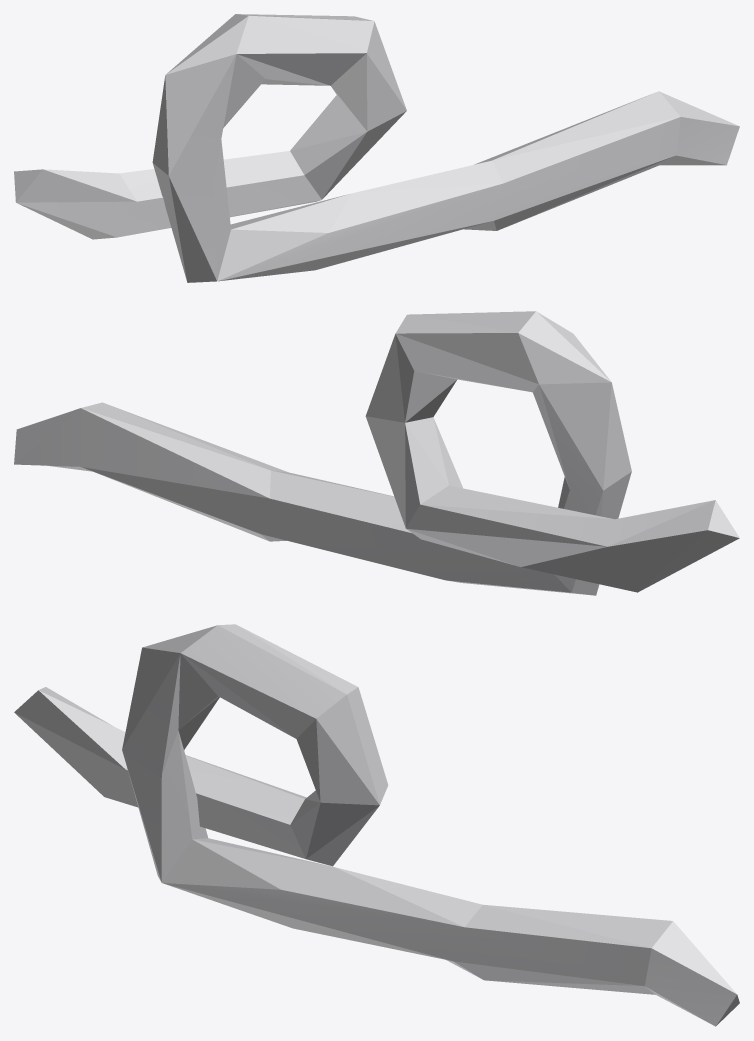
The model's file is stylize_cloud_16.fbx.
3 renders of one model, top to bottom at view 1: azimuth 30°, elevation 25°; view 2: azimuth 150°, elevation 25°; view 3: azimuth 330°, elevation 25°, orthographic. The views are drawn at different scales.
Parts seen in each view (by area): view 1: cloud_97; view 2: cloud_97; view 3: cloud_97.
Part boxes in pixels (x1,y1,x2,y2): cloud_97: (14, 14, 739, 282); cloud_97: (14, 311, 739, 595); cloud_97: (14, 624, 739, 1026).
Bounding box in the file's own units: 541 × 204 × 71.14.
